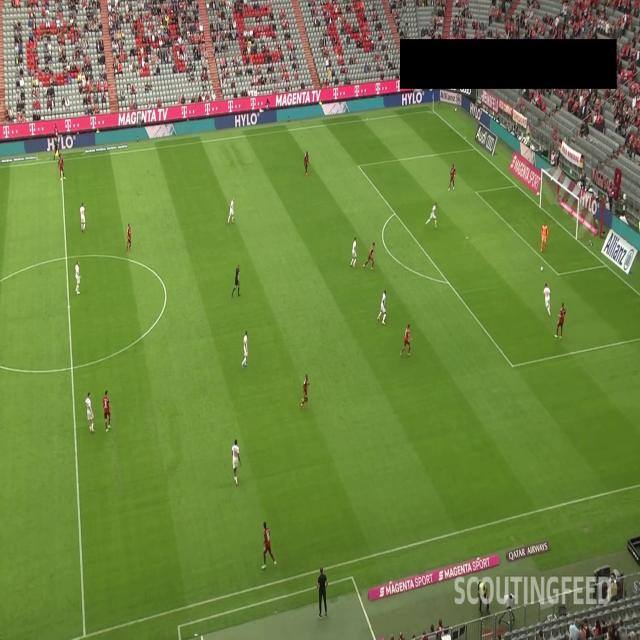ball: (539, 262, 546, 275)
player: (257, 516, 279, 572), (228, 433, 244, 491), (82, 391, 98, 434), (552, 298, 566, 344), (298, 368, 312, 412), (375, 284, 389, 326), (362, 237, 377, 273), (398, 319, 412, 357), (425, 197, 440, 232), (226, 187, 238, 228), (102, 387, 112, 433), (537, 217, 549, 255), (76, 196, 88, 234), (240, 325, 250, 369), (72, 256, 82, 299), (542, 279, 552, 317), (446, 158, 456, 195), (348, 234, 358, 268), (125, 219, 134, 255), (57, 151, 66, 183), (302, 149, 310, 179)
referee: (229, 262, 244, 302), (53, 130, 62, 162)
